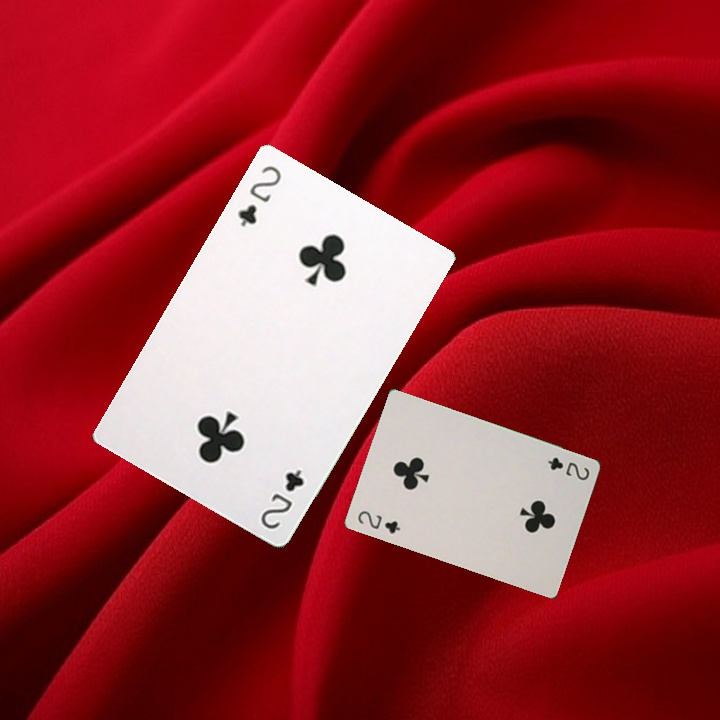2c: (256, 464, 307, 532), (234, 161, 284, 230), (353, 506, 403, 536), (543, 453, 592, 483)
